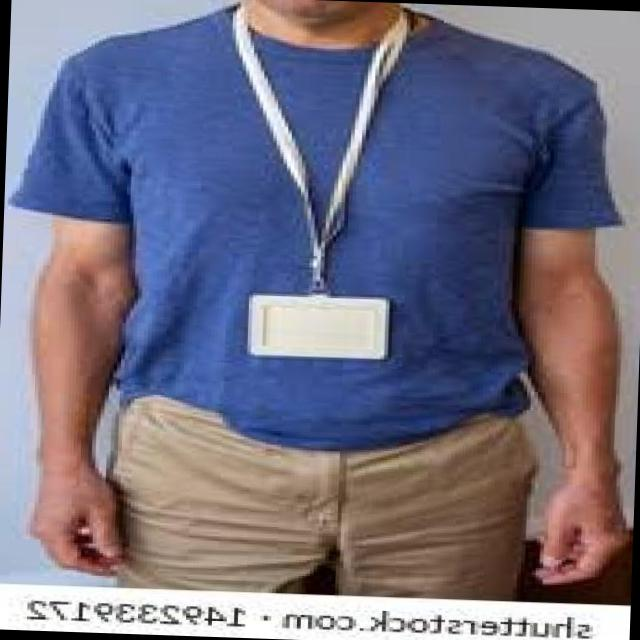id_card: (231, 0, 414, 366)
